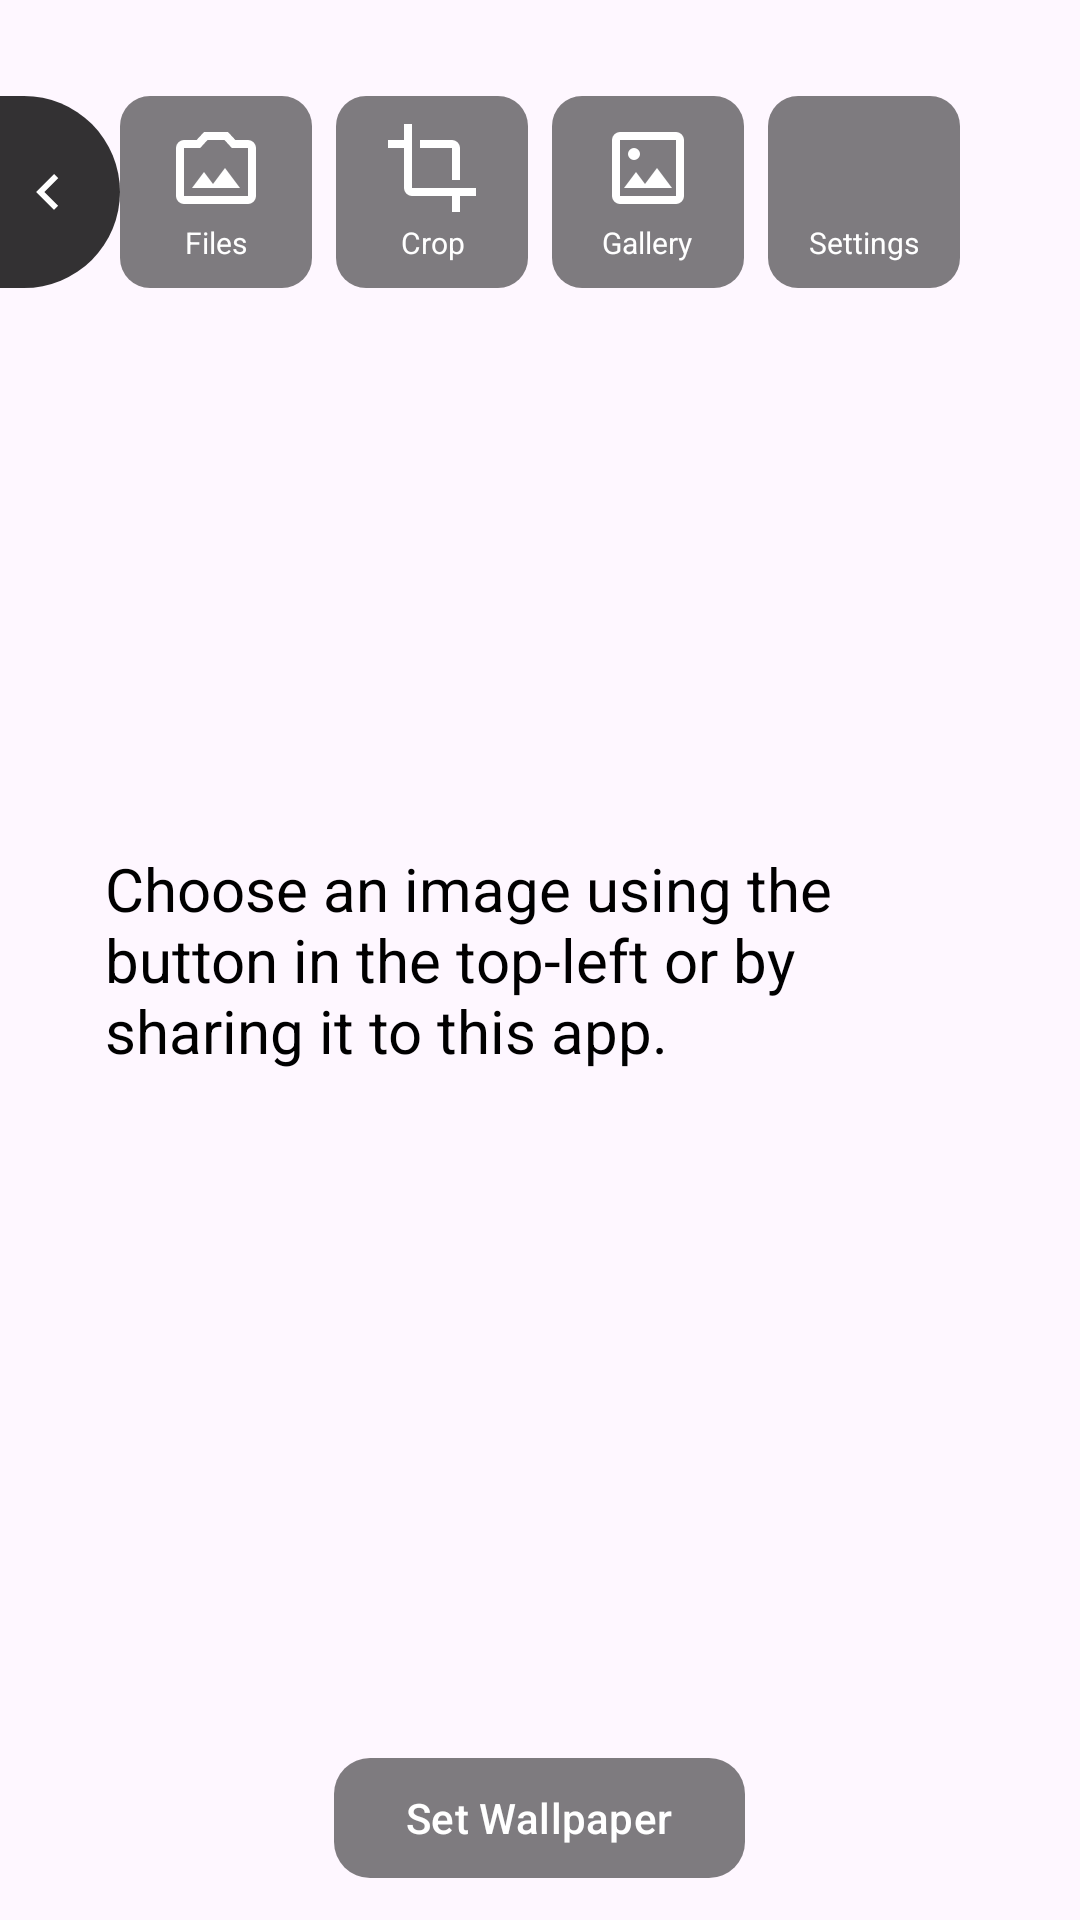

Where icons sit on this 1080 x 1920 app screen, as (x1,y1,x2,y2):
arrow left: (0,96,120,288)
open file explorer: (176,132,256,204)
